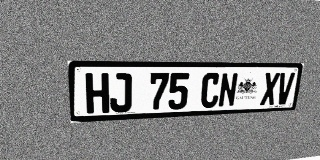5: (168, 73, 189, 110)
7: (148, 73, 169, 111)
C: (200, 73, 221, 108)
H: (85, 73, 109, 114)
J: (110, 73, 132, 113)
N: (218, 73, 238, 107)
V: (275, 73, 295, 105)
X: (260, 73, 280, 105)
